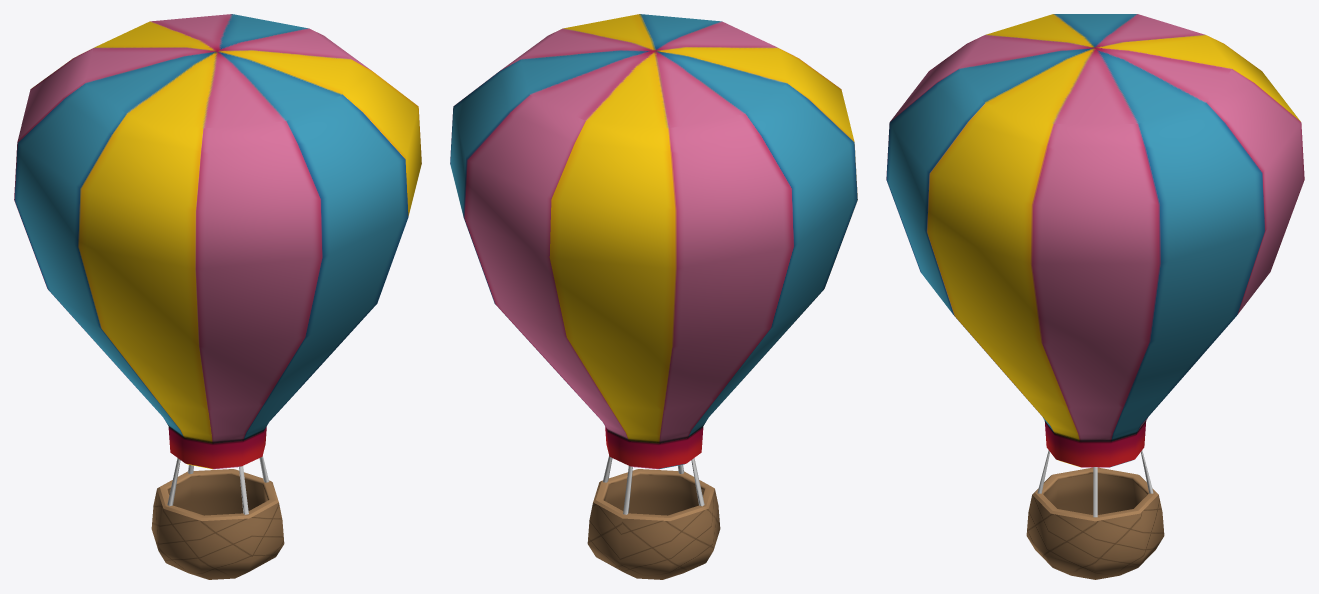
The model's file is Balloon_Basket_Model.obj.
3 renders of one model, left to right at view 1: azimuth 30°, elevation 25°; view 2: azimuth 150°, elevation 25°; view 3: azimuth 270°, elevation 25°, orthographic.
Parts seen in each view (by area): view 1: Ballooon_Basket, Ballooon_Basket Basket, Ballooon_Basket Basket Sticks; view 2: Ballooon_Basket, Ballooon_Basket Basket, Ballooon_Basket Basket Sticks; view 3: Ballooon_Basket, Ballooon_Basket Basket, Ballooon_Basket Basket Sticks.
Part boxes in pixels (x1,y1,x2,y2): Ballooon_Basket: (14,14,421,469); Ballooon_Basket Basket: (151,469,284,579); Ballooon_Basket Basket Sticks: (167,455,269,514); Ballooon_Basket: (450,14,857,469); Ballooon_Basket Basket: (587,469,720,579); Ballooon_Basket Basket Sticks: (602,455,704,514); Ballooon_Basket: (886,14,1304,467); Ballooon_Basket Basket: (1026,467,1164,579); Ballooon_Basket Basket Sticks: (1037,450,1153,517).
Size of the model in its own units: 78.08 by 112 by 82.1.
